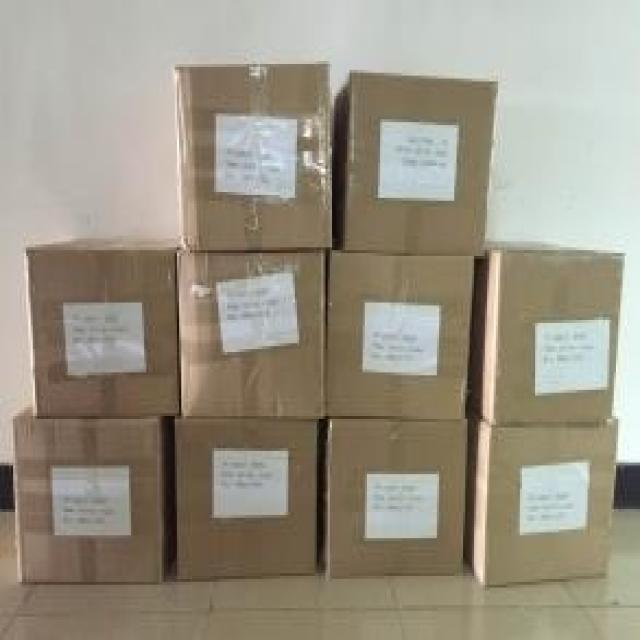Carton: (13, 64, 330, 579), (328, 253, 623, 582), (328, 70, 500, 416), (173, 419, 317, 576)
